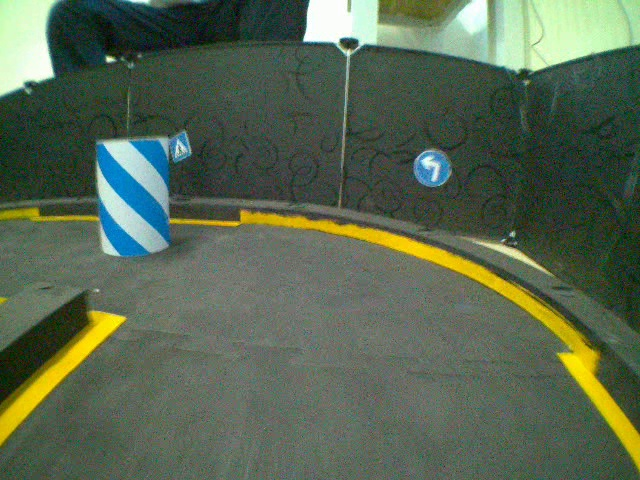bucket: (95, 136, 176, 261)
